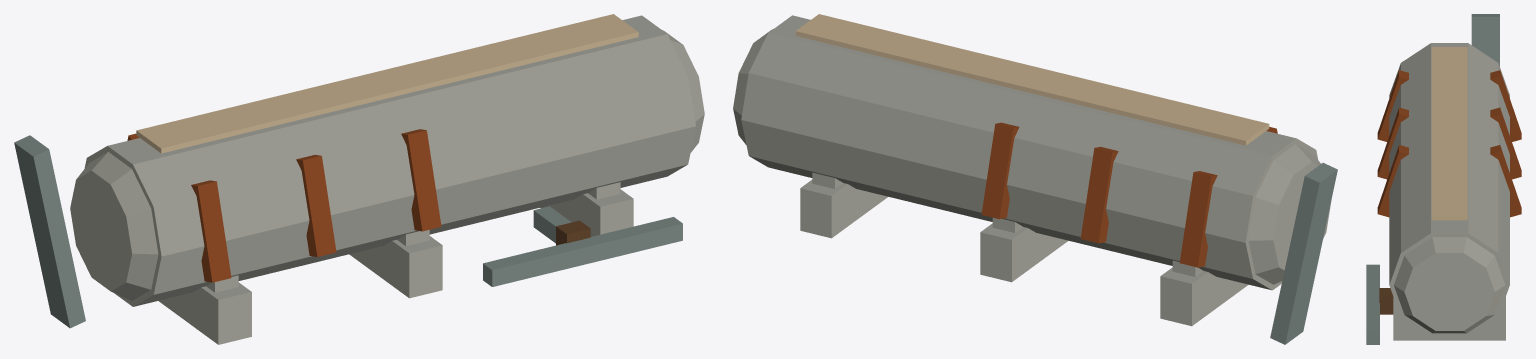
File: SM_TanqueCombustible_v3_LOD1.fbx
The picture shows the model from 3 angles, left to right: view 1: azimuth 30°, elevation 25°; view 2: azimuth 150°, elevation 25°; view 3: azimuth 270°, elevation 25°; orthographic projection. The views are drawn at different scales.
Parts seen in each view (by area): view 1: SM_tanque_combustible_v3_LOD1; view 2: SM_tanque_combustible_v3_LOD1; view 3: SM_tanque_combustible_v3_LOD1.
Part boxes in pixels (bbox=[...]): SM_tanque_combustible_v3_LOD1: bbox=[14, 14, 704, 344]; SM_tanque_combustible_v3_LOD1: bbox=[733, 14, 1337, 344]; SM_tanque_combustible_v3_LOD1: bbox=[1366, 14, 1521, 344].
Bounding box in the file's own units: 13.1 × 3.7 × 3.86.
